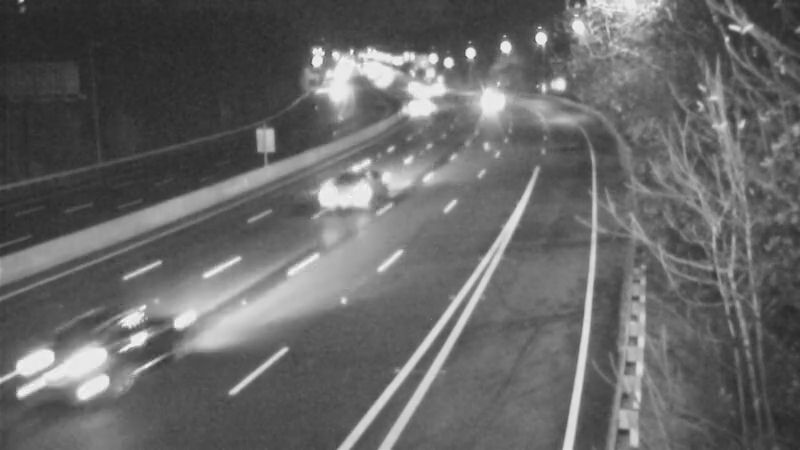vehicle: (2, 321, 112, 431), (298, 152, 378, 232), (394, 68, 444, 118), (461, 76, 511, 126), (396, 85, 446, 135)
